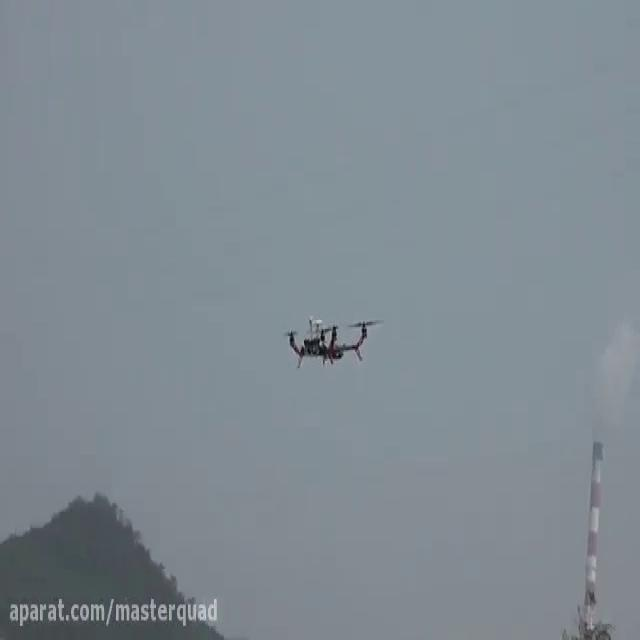drone: (280, 311, 387, 370)
